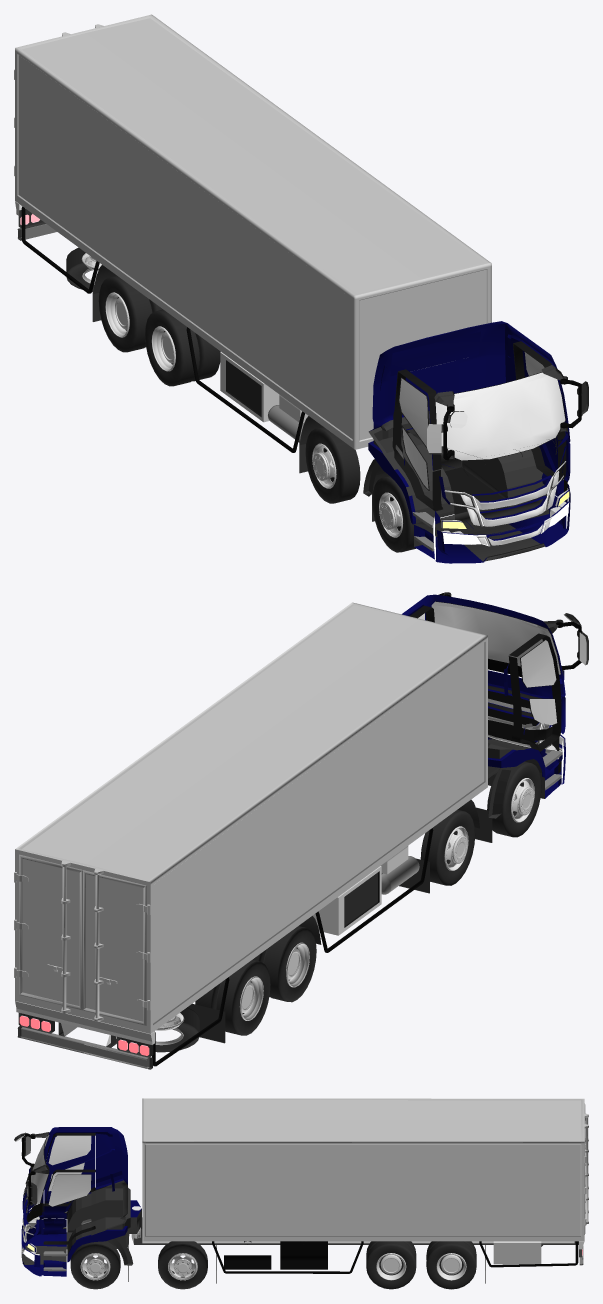
The model's file is yukum-truck.glb.
3 views of the same model, one above another, from view 1: azimuth 30°, elevation 25°; view 2: azimuth 150°, elevation 25°; view 3: azimuth 270°, elevation 25° (orthographic). The views are drawn at different scales.
Visible parts, largest first — view 1: scene/Meshes/Sketchfab_model/root/GLTF_SceneRootNode/Truck_4 (×12), scene/Meshes/Sketchfab_model/root/GLTF_SceneRootNode/Empty_0 (×8); view 2: scene/Meshes/Sketchfab_model/root/GLTF_SceneRootNode/Truck_4 (×12), scene/Meshes/Sketchfab_model/root/GLTF_SceneRootNode/Empty_0 (×8); view 3: scene/Meshes/Sketchfab_model/root/GLTF_SceneRootNode/Truck_4 (×11), scene/Meshes/Sketchfab_model/root/GLTF_SceneRootNode/Empty_0 (×8).
Part boxes in pixels (x1,y1,x2,y2): scene/Meshes/Sketchfab_model/root/GLTF_SceneRootNode/Truck_4 (×12): (14, 14, 588, 563); scene/Meshes/Sketchfab_model/root/GLTF_SceneRootNode/Empty_0 (×8): (98, 275, 422, 552); scene/Meshes/Sketchfab_model/root/GLTF_SceneRootNode/Truck_4 (×12): (14, 592, 588, 1069); scene/Meshes/Sketchfab_model/root/GLTF_SceneRootNode/Empty_0 (×8): (195, 761, 541, 1035); scene/Meshes/Sketchfab_model/root/GLTF_SceneRootNode/Truck_4 (×11): (14, 1098, 588, 1281); scene/Meshes/Sketchfab_model/root/GLTF_SceneRootNode/Empty_0 (×8): (70, 1241, 476, 1289).
Bounding box in the file's own units: 3.45 × 4.51 × 15.9.
